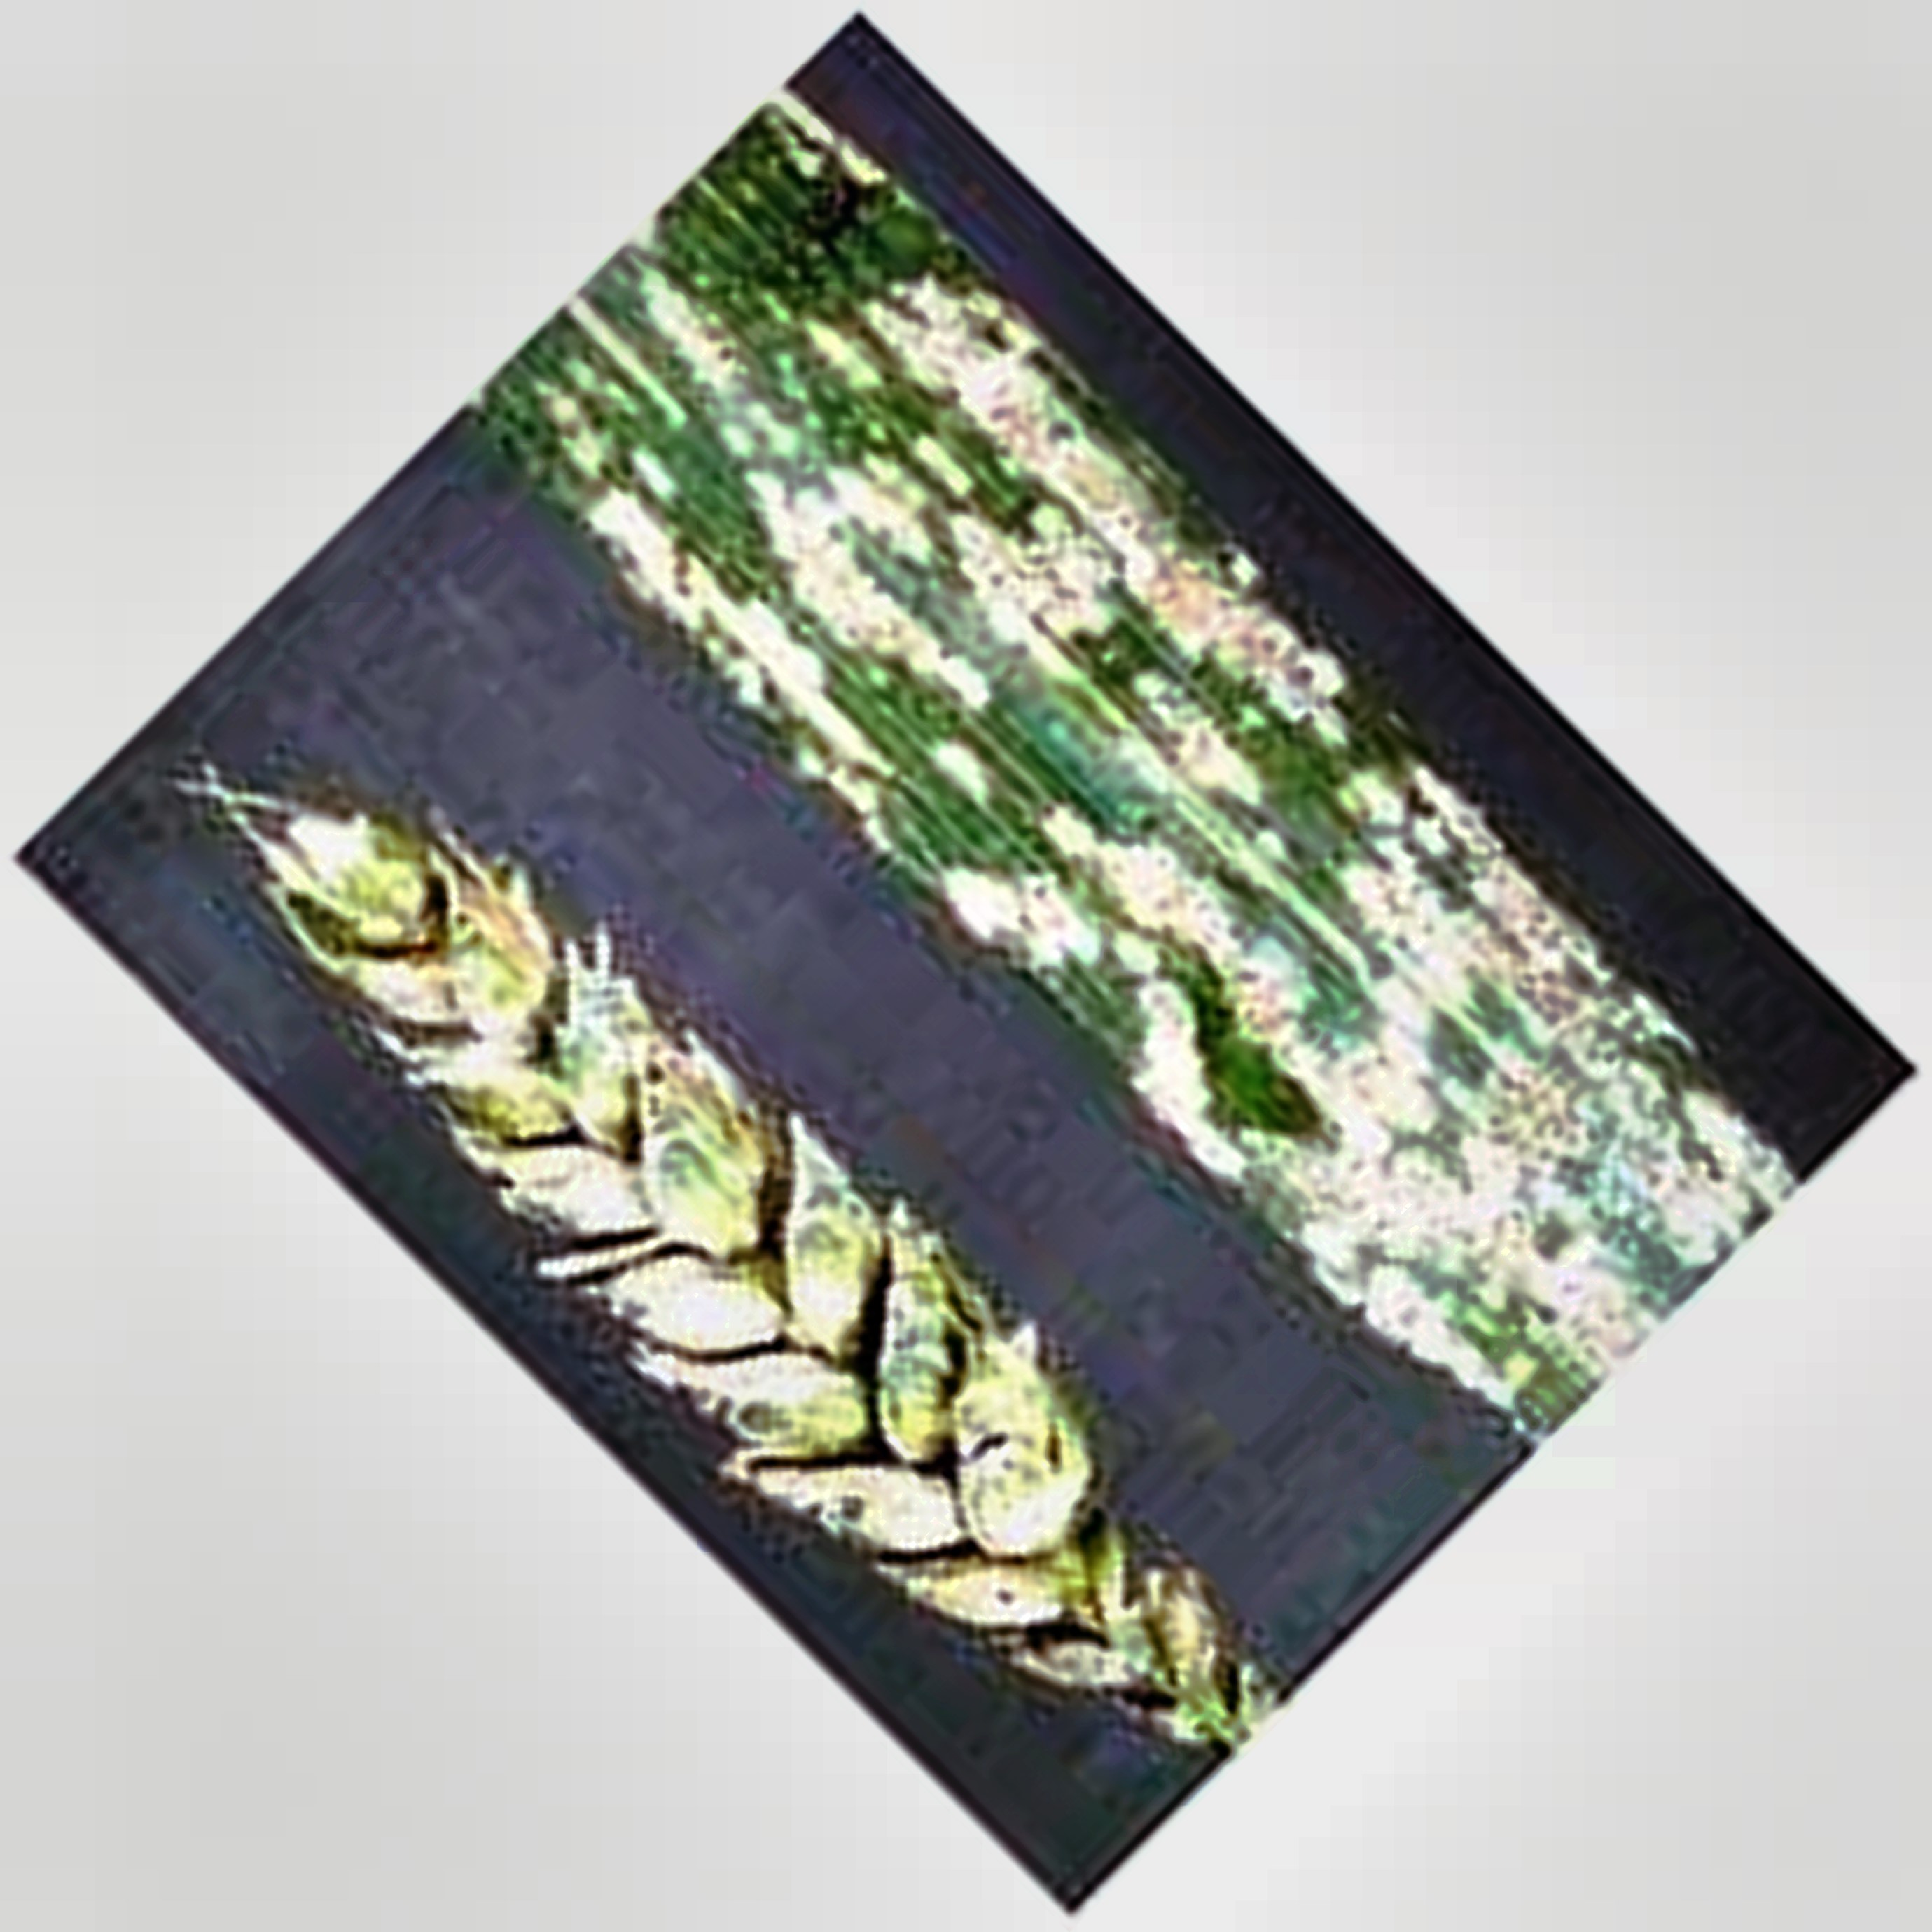Powdery Mildew: (616, 249, 1695, 1290)
